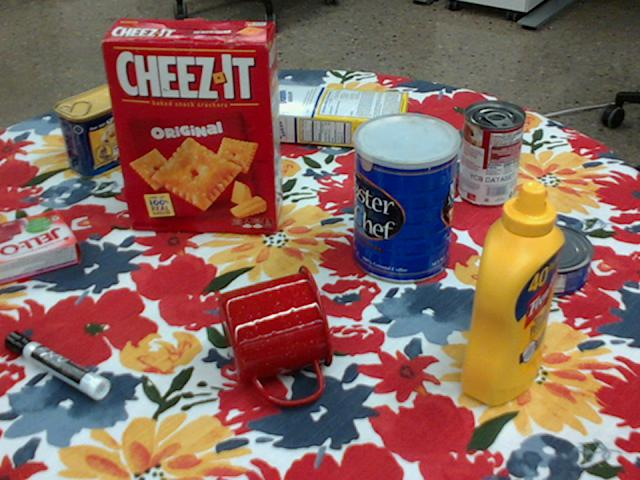cracker_box: (102, 18, 283, 229)
gelatin_box: (0, 209, 81, 285)
large_marker: (4, 329, 109, 398)
master_chef_can: (353, 113, 460, 285)
mug: (217, 265, 335, 405)
mustard_bottle: (460, 181, 563, 406)
potted_meat_can: (54, 81, 145, 177)
sugar_box: (262, 83, 408, 152)
tomato_soup_can: (458, 100, 524, 207)
tuna_fish_can: (503, 224, 592, 298)
